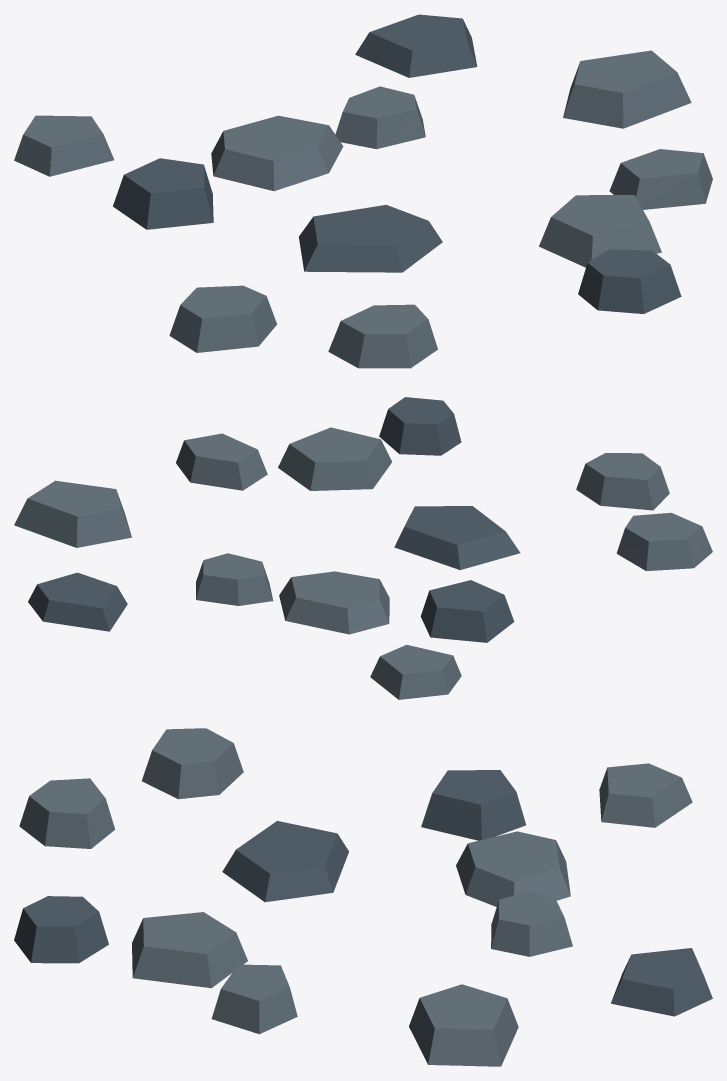
Rendered from plant_bryolux_c.obj.
3 renders of one model, top to bottom at view 1: azimuth 30°, elevation 25°; view 2: azimuth 150°, elevation 25°; view 3: azimuth 270°, elevation 25°, orthographic. The views are drawn at different scales.
Visible parts, largest first — view 1: plant_bryolux_c_0, plant_bryolux_c_4, plant_bryolux_c_10, plant_bryolux_c_7, plant_bryolux_c_3, plant_bryolux_c_1, plant_bryolux_c_9, plant_bryolux_c_2, plant_bryolux_c_6, plant_bryolux_c_8, plant_bryolux_c_5, plant_bryolux_c_11; view 2: plant_bryolux_c_10, plant_bryolux_c_4, plant_bryolux_c_0, plant_bryolux_c_7, plant_bryolux_c_3, plant_bryolux_c_1, plant_bryolux_c_2, plant_bryolux_c_9, plant_bryolux_c_8, plant_bryolux_c_6, plant_bryolux_c_5, plant_bryolux_c_11; view 3: plant_bryolux_c_0, plant_bryolux_c_10, plant_bryolux_c_7, plant_bryolux_c_4, plant_bryolux_c_3, plant_bryolux_c_1, plant_bryolux_c_2, plant_bryolux_c_6, plant_bryolux_c_9, plant_bryolux_c_5, plant_bryolux_c_8, plant_bryolux_c_11.
Boxes of the visible parts, x1,y1,x2,y2 form: plant_bryolux_c_0: (299, 205, 442, 272); plant_bryolux_c_4: (211, 115, 343, 191); plant_bryolux_c_10: (563, 50, 691, 128); plant_bryolux_c_7: (539, 195, 661, 267); plant_bryolux_c_3: (113, 158, 213, 229); plant_bryolux_c_1: (169, 285, 277, 352); plant_bryolux_c_9: (355, 14, 477, 77); plant_bryolux_c_2: (328, 304, 437, 368); plant_bryolux_c_6: (578, 249, 681, 313); plant_bryolux_c_8: (609, 149, 712, 209); plant_bryolux_c_5: (14, 115, 114, 176); plant_bryolux_c_11: (335, 86, 425, 149); plant_bryolux_c_10: (14, 480, 131, 547); plant_bryolux_c_4: (279, 571, 389, 634); plant_bryolux_c_0: (394, 506, 520, 569); plant_bryolux_c_7: (278, 427, 391, 490); plant_bryolux_c_3: (420, 580, 514, 642); plant_bryolux_c_1: (616, 512, 712, 570); plant_bryolux_c_2: (576, 453, 669, 510); plant_bryolux_c_9: (28, 572, 127, 631); plant_bryolux_c_8: (176, 433, 267, 490); plant_bryolux_c_6: (379, 397, 461, 455); plant_bryolux_c_5: (370, 644, 461, 699); plant_bryolux_c_11: (196, 553, 273, 605); plant_bryolux_c_0: (222, 821, 348, 902); plant_bryolux_c_10: (409, 984, 518, 1066); plant_bryolux_c_7: (132, 912, 247, 988); plant_bryolux_c_4: (456, 831, 570, 906); plant_bryolux_c_3: (421, 770, 525, 840); plant_bryolux_c_1: (142, 728, 243, 799); plant_bryolux_c_2: (19, 778, 114, 848); plant_bryolux_c_6: (14, 896, 108, 963); plant_bryolux_c_9: (611, 948, 712, 1016); plant_bryolux_c_5: (599, 763, 692, 827); plant_bryolux_c_8: (211, 964, 297, 1034); plant_bryolux_c_11: (491, 890, 572, 956).
Bounding box in the file's own units: 0.9747 × 0.0472 × 0.9193.
